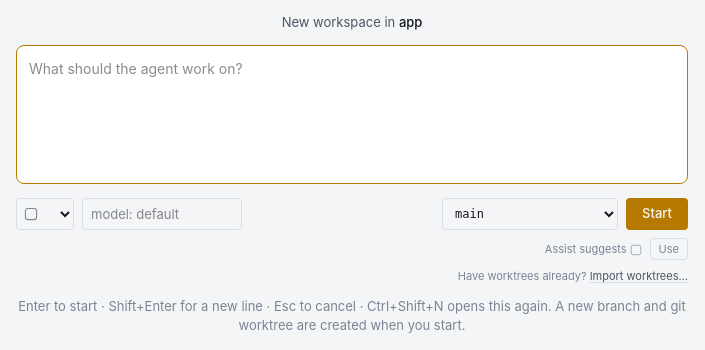
Test case: Composer › ignores a drop outside the composer and one that arrives while starting
In the text box labelled "What should the agent work on?": (352,114) [16,45,688,184], type "keep this"
Then press Enter
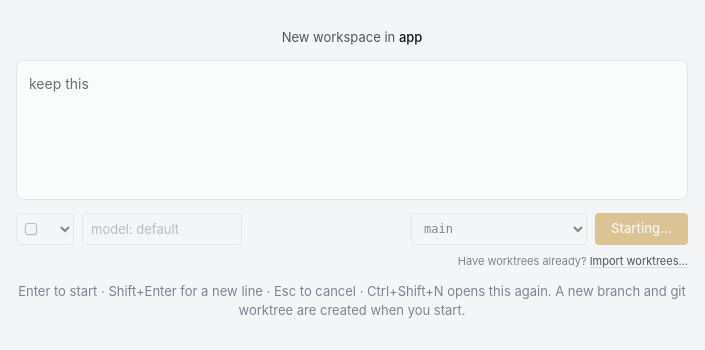
Expected: the button "Starting…" is shown, [595,213,688,245]
